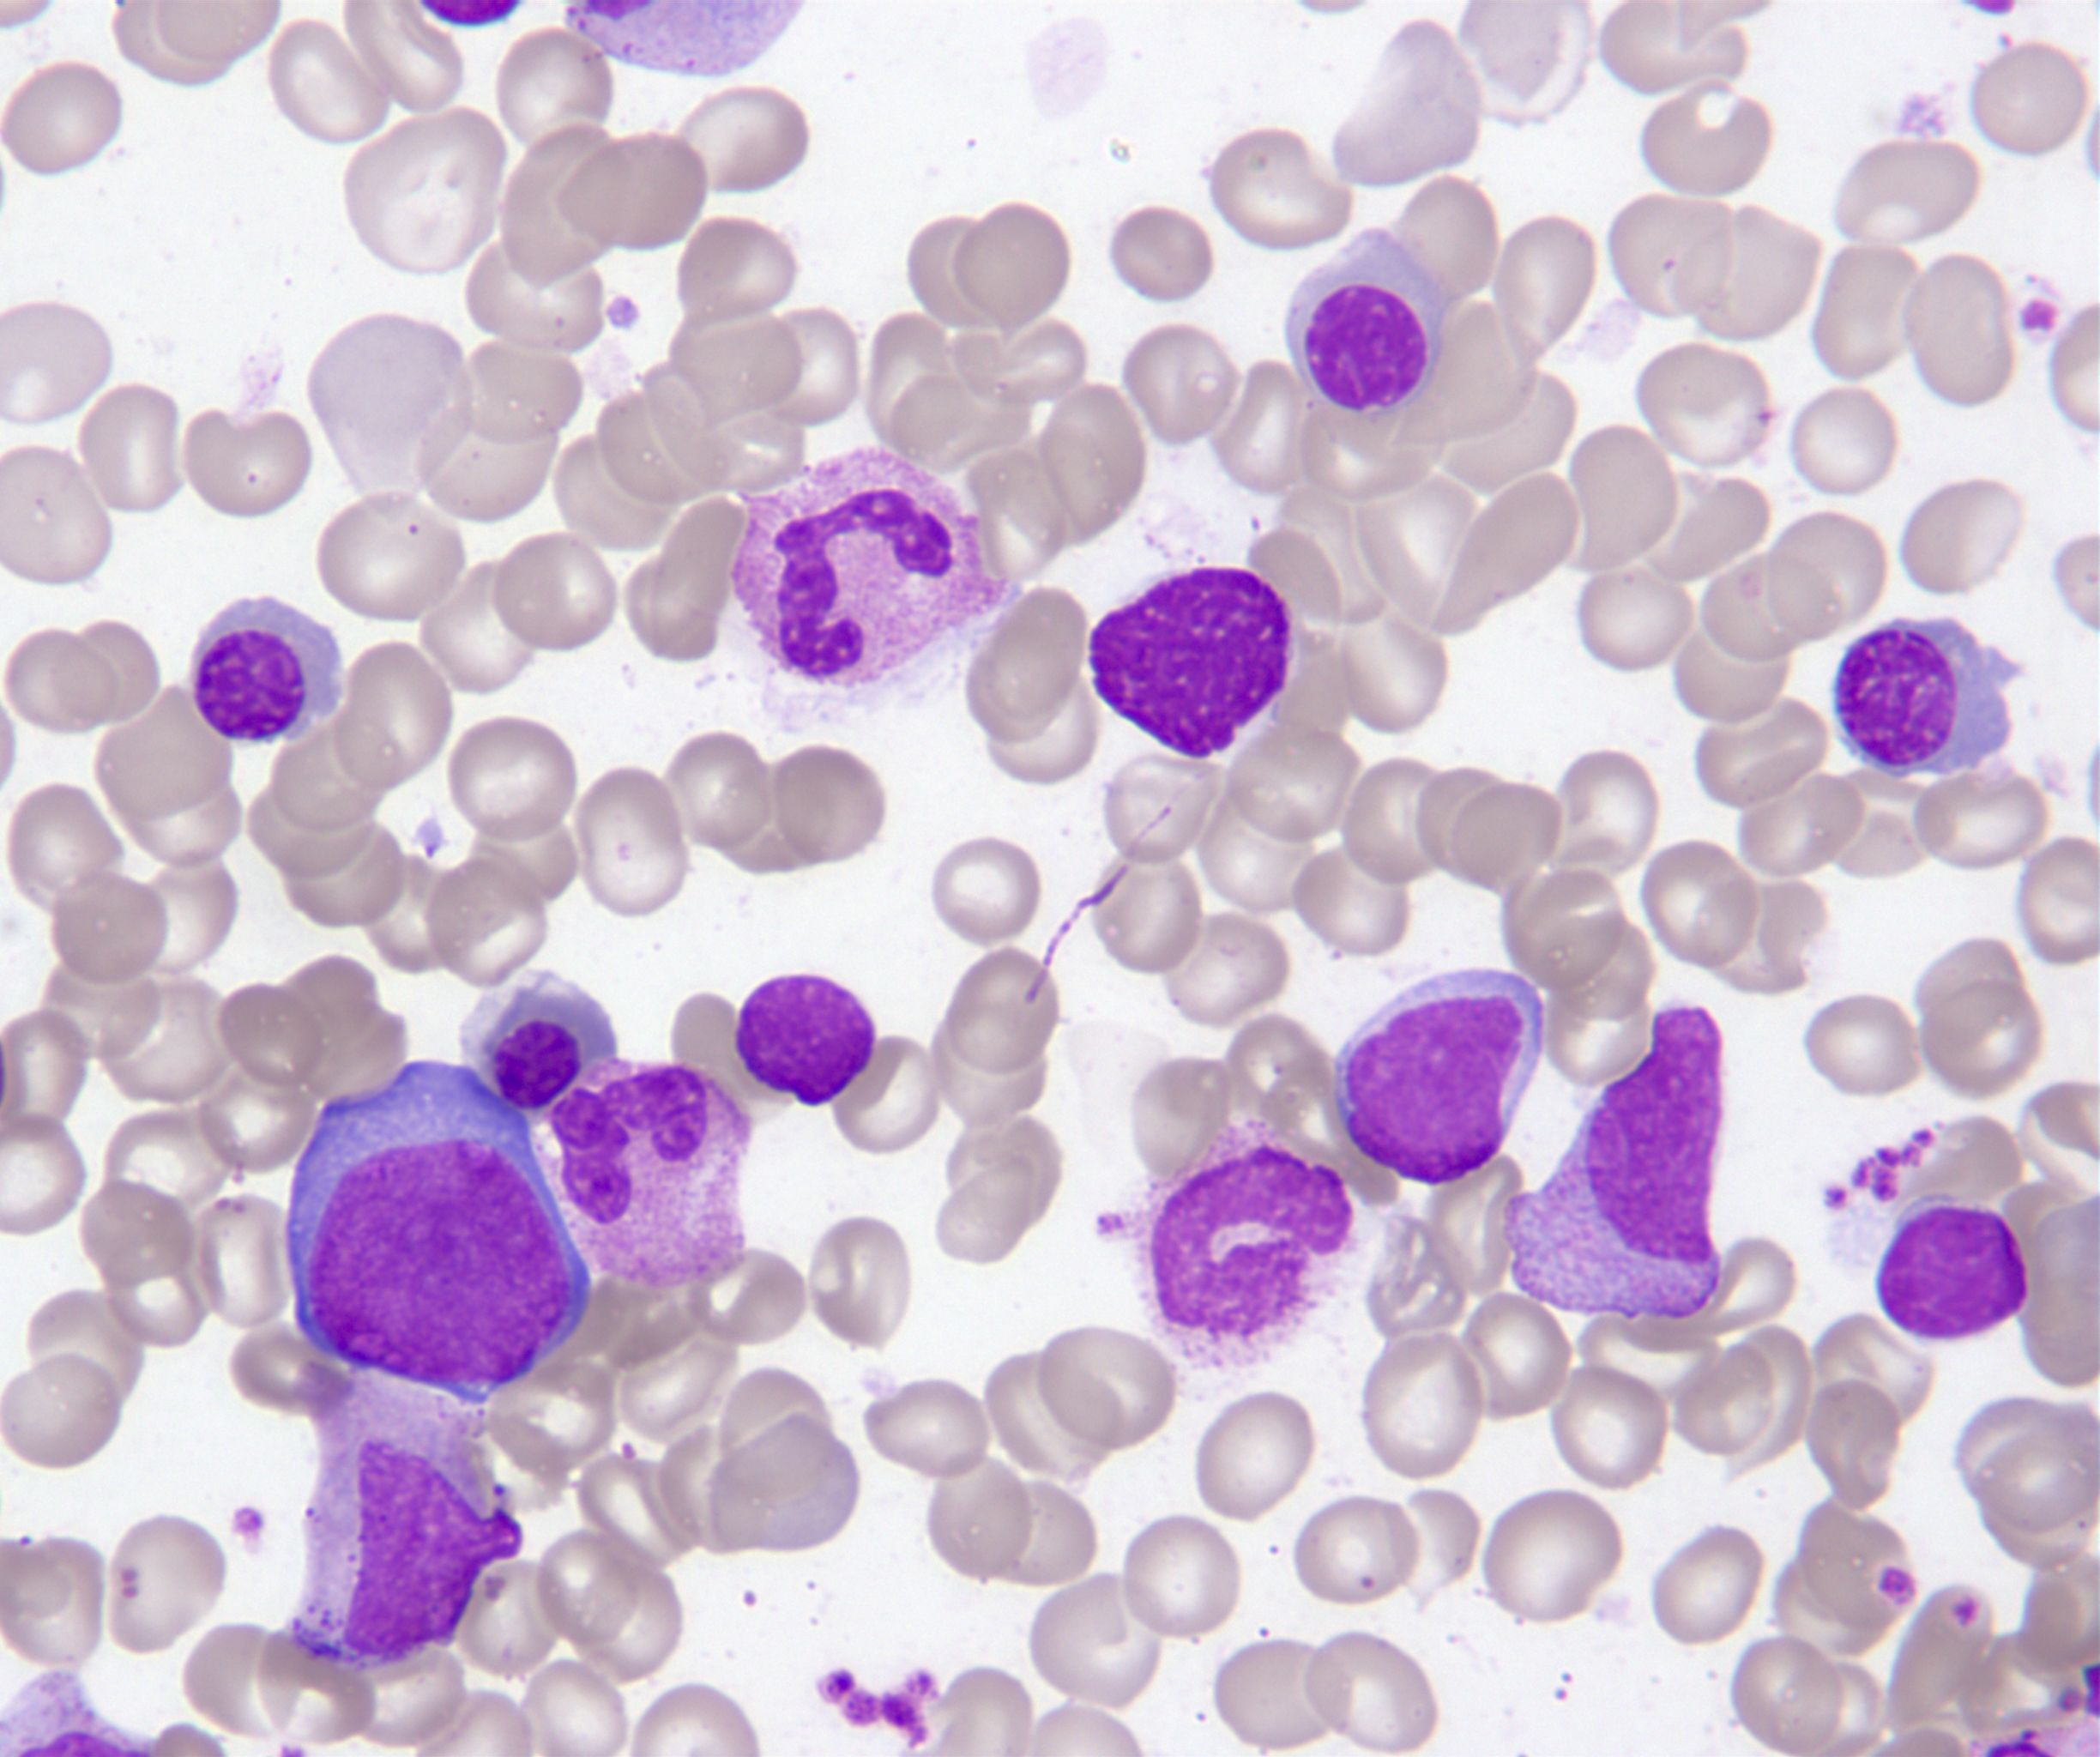1: (281, 1054, 597, 1415)
23: (1828, 609, 2037, 783), (452, 958, 621, 1127), (181, 591, 359, 752)
24: (1280, 218, 1458, 420)
3: (281, 1354, 527, 1677)
32: (1326, 965, 1552, 1188), (1865, 1197, 2035, 1349), (729, 968, 879, 1117)
5: (722, 440, 1020, 707), (1128, 1110, 1357, 1389)
6: (525, 1056, 760, 1296)
x: (1502, 996, 1725, 1326), (1083, 555, 1301, 769)
